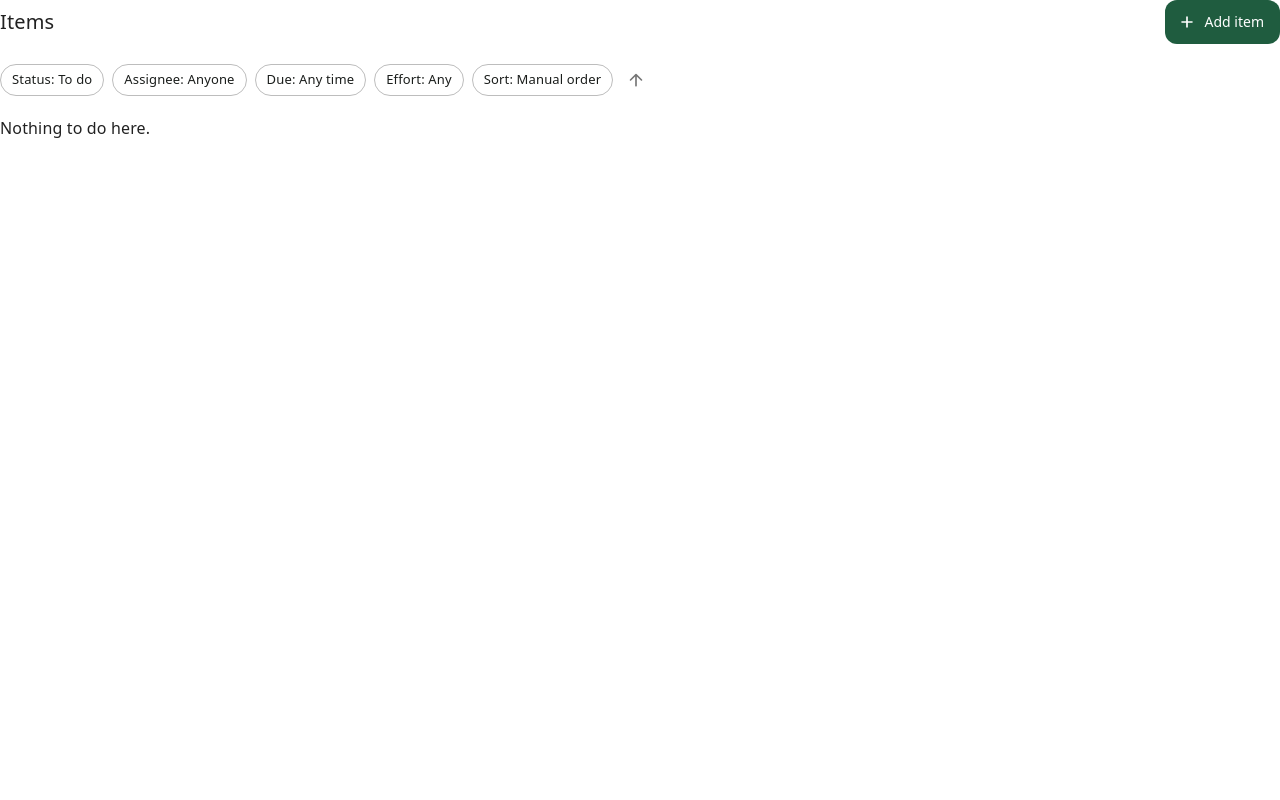
Test: ItemsSection › asks up front for the two answers that cost a tap
This screenshot has width=1280, height=800.
Click the button "Add item".
click(1222, 22)  # box [1164,0,1279,44]
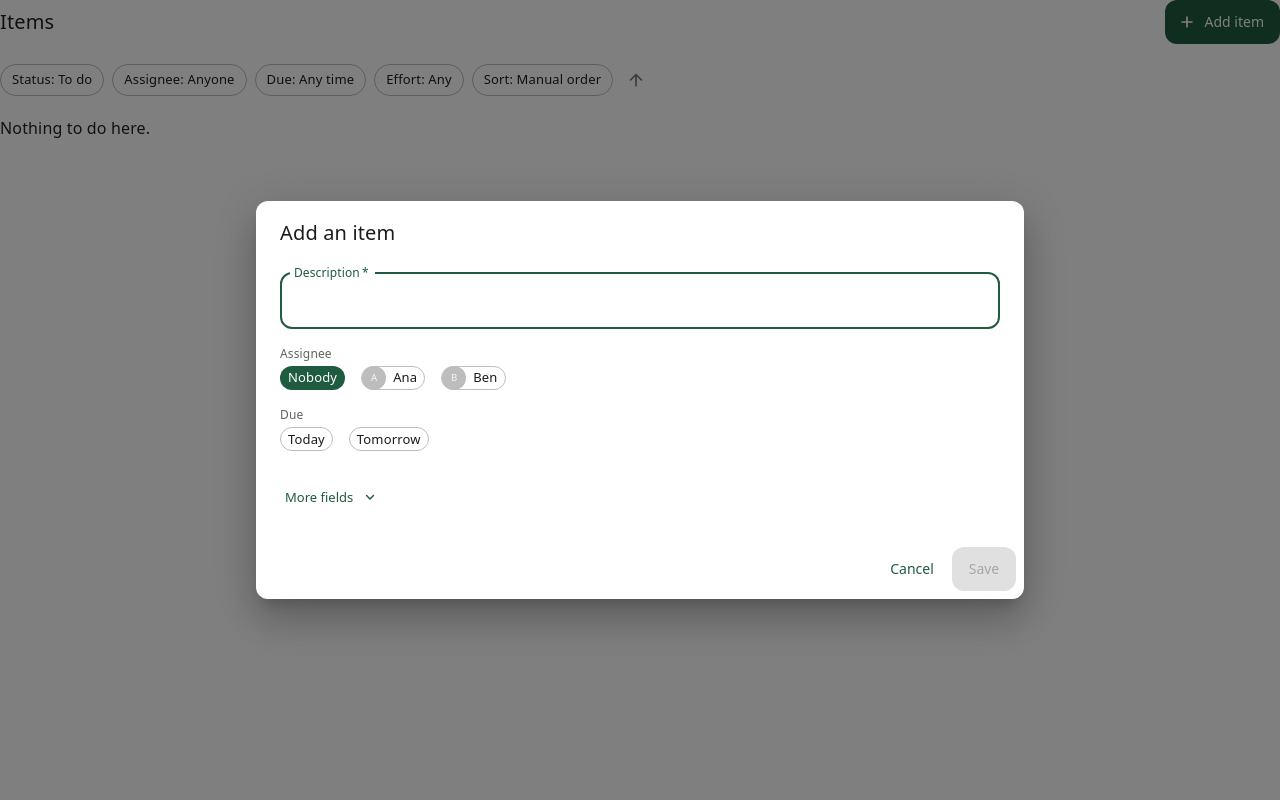
Result: the field labelled "Description" is shown at [280,273,1000,329]
Result: the button "B Ben" is shown at [441,366,506,390]
Result: the button "Tomorrow" is shown at [349,427,429,451]
Click the button "More fields".
click(331, 497)  # box [280,475,382,519]
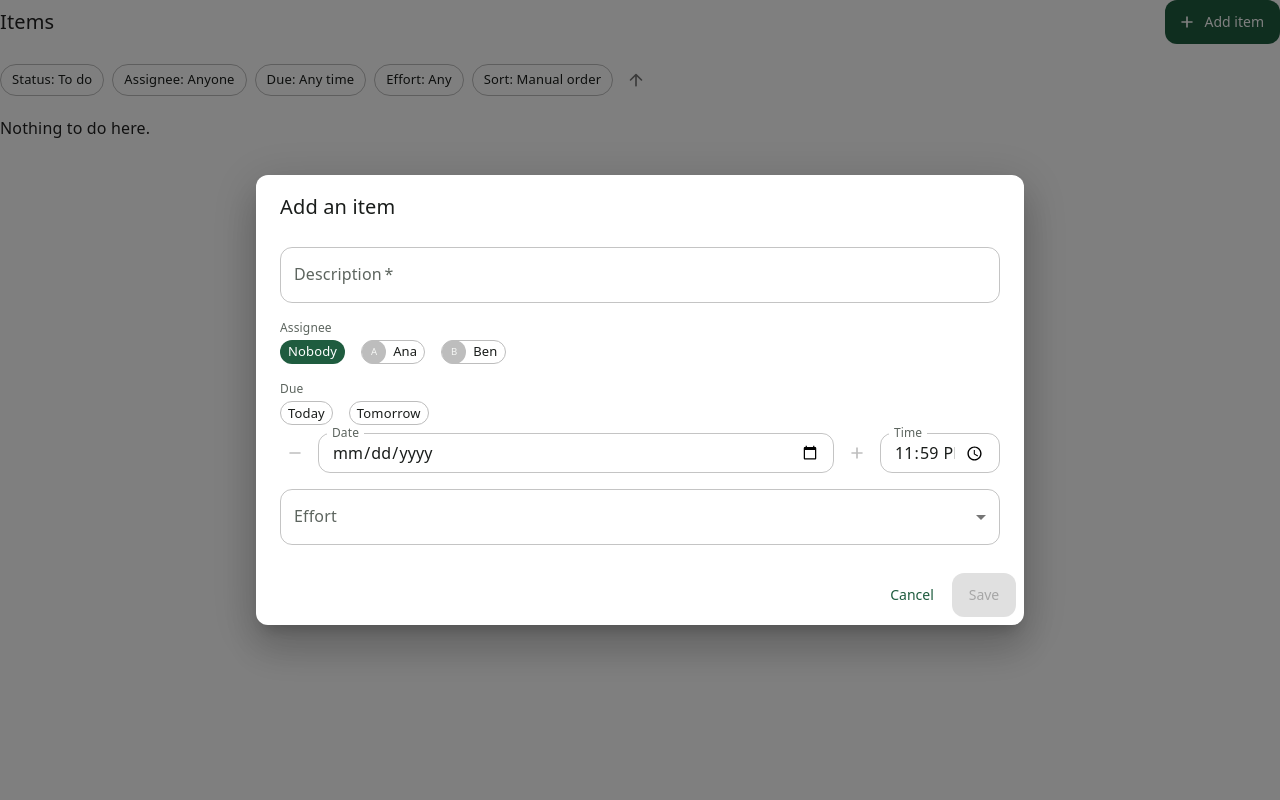
Result: the date field labelled "Date" is shown at [318,433,834,473]
Result: the dropdown named "Effort" is shown at [280,489,1000,545]
